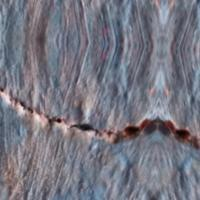crack: (0, 66, 199, 170)
